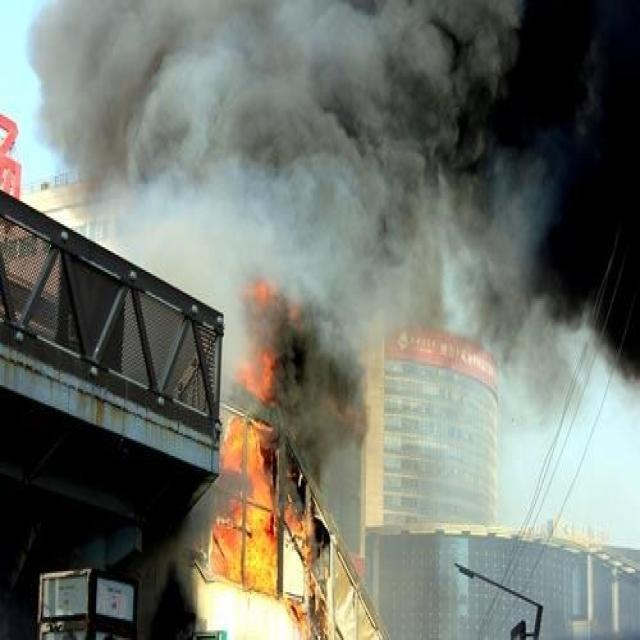Fire: (213, 412, 280, 597)
Smoke: (374, 0, 640, 389), (22, 3, 517, 180), (92, 185, 334, 362)
